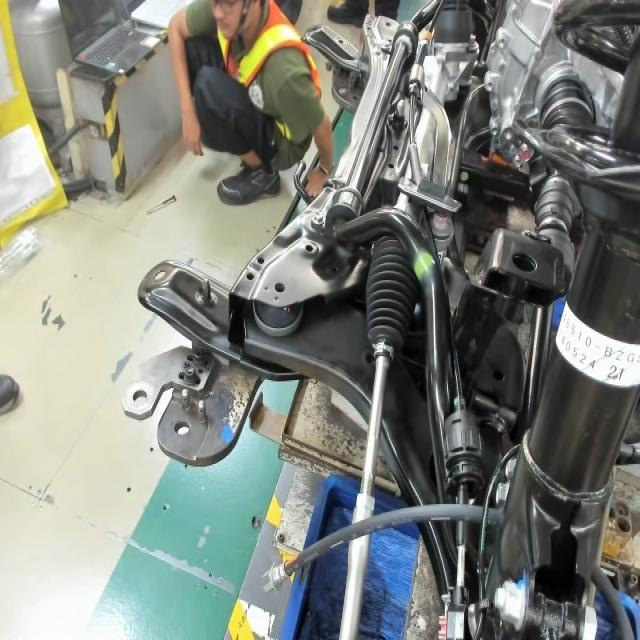Absorber RH-21: (604, 357, 627, 386)
Bar Stabilizer-HJ: (411, 248, 435, 288)
